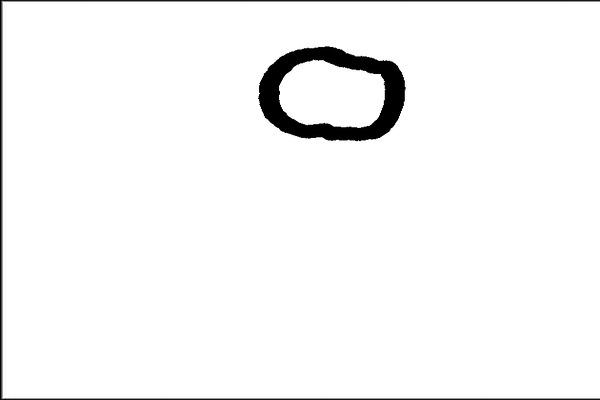O: (244, 25, 412, 150)
